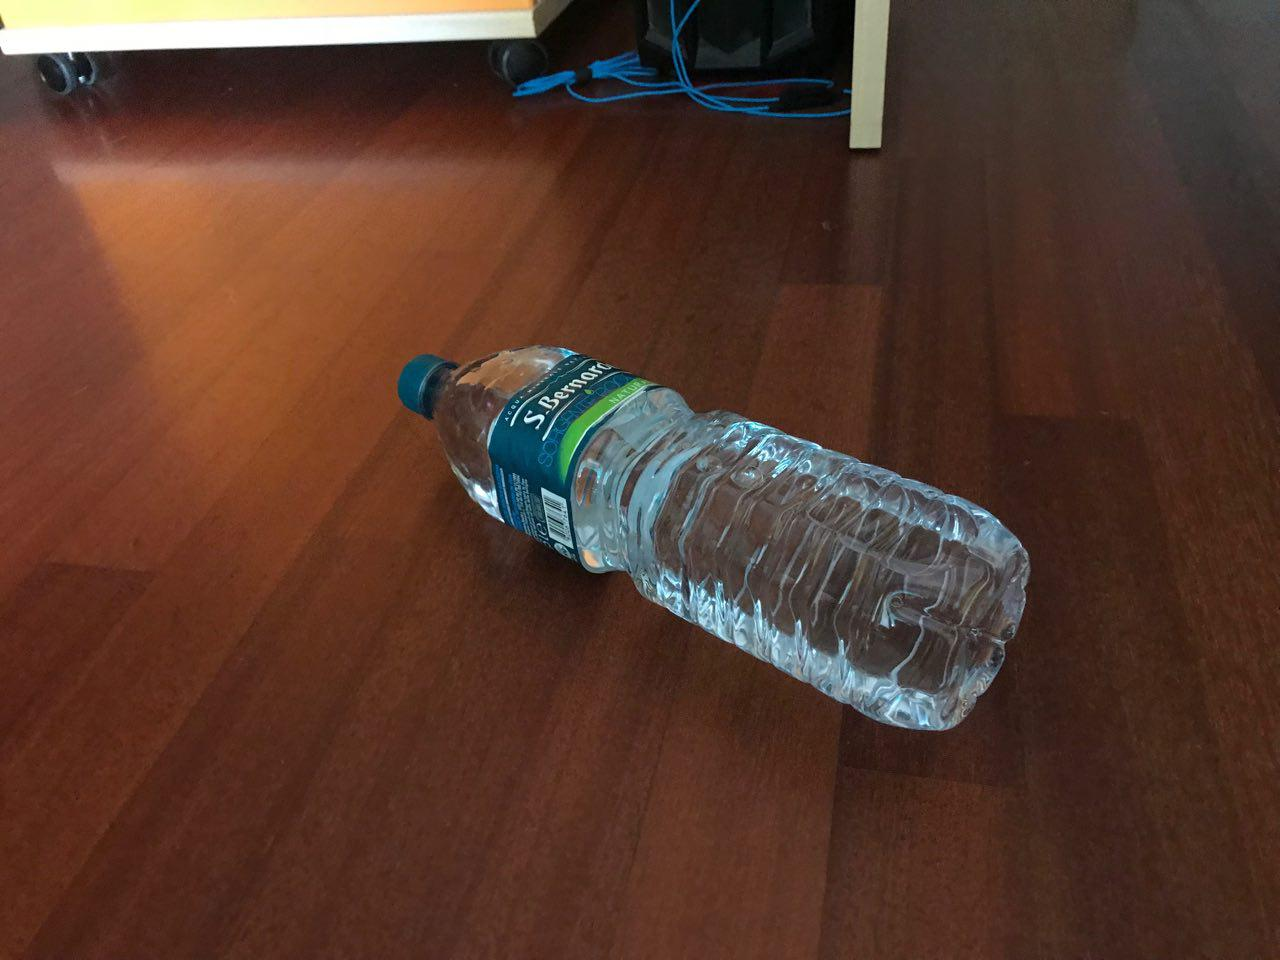san_bernardo: (396, 340, 1033, 735)
